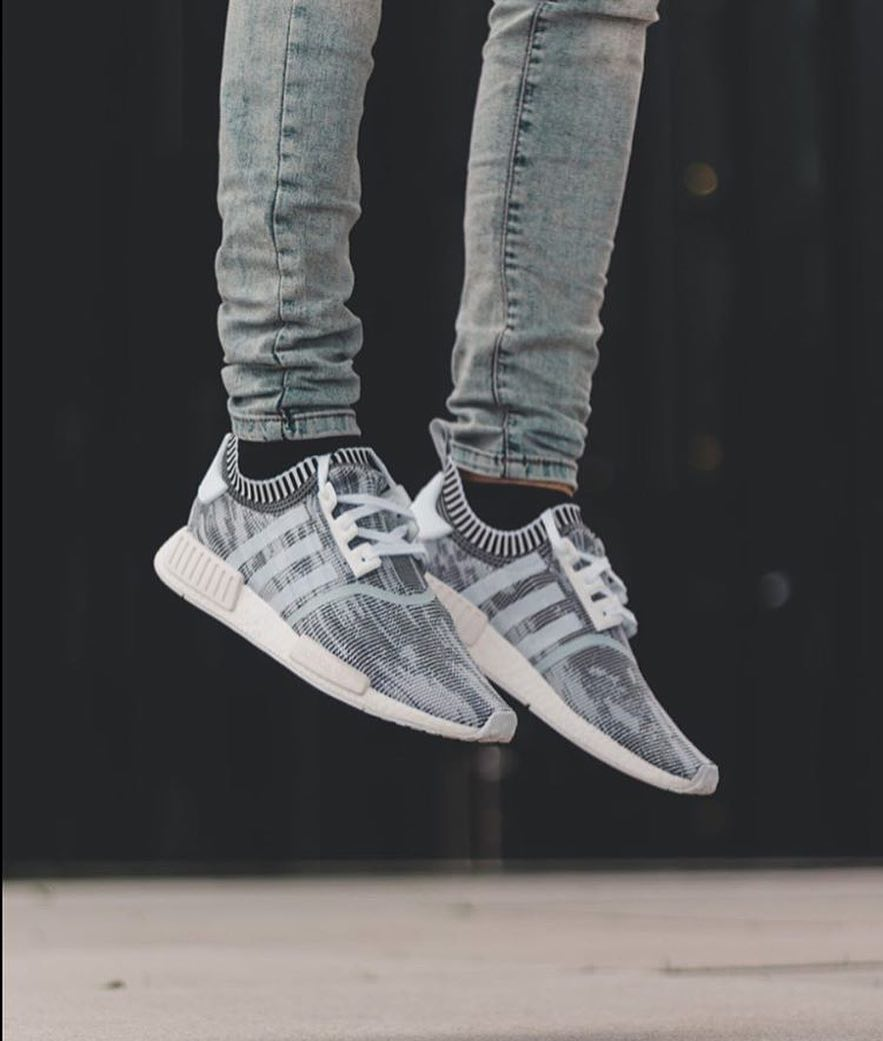sneaker: (112, 401, 539, 785), (357, 410, 731, 822)
